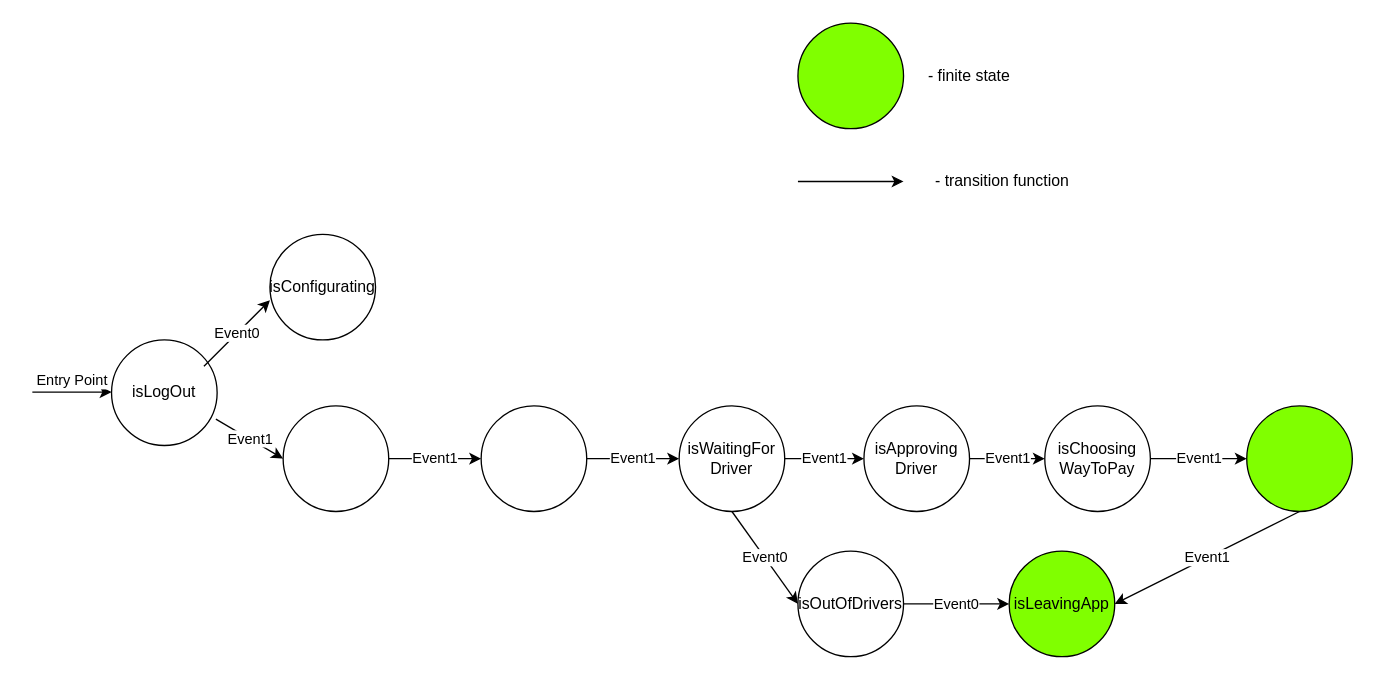
Image size: 1375x680. Some labels were removed from this diagram. Each missing label, with the centre of its shape:
"i sChoosing Destination" goes at point 533,458.
"isDriven Successfully" goes at point 1298,458.
"isLogIn" goes at point 335,458.
